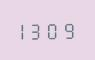nine: (60, 19, 73, 39)
one: (18, 20, 31, 40)
three: (32, 20, 45, 40)
zero: (46, 20, 59, 39)
